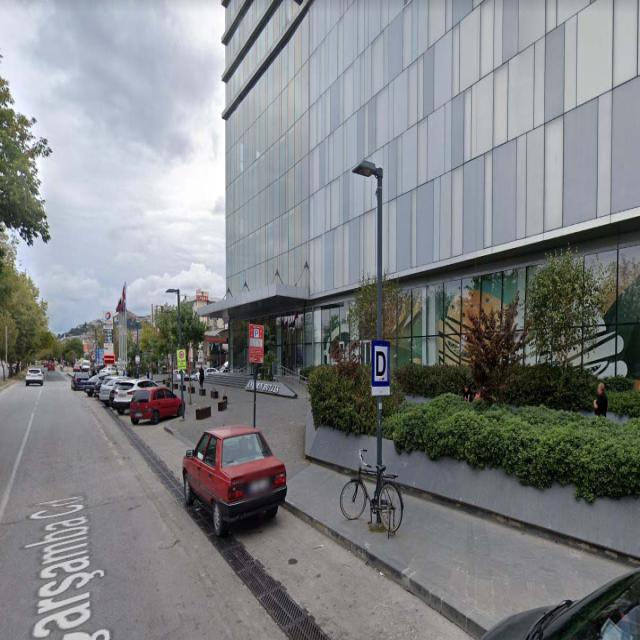durak: (372, 341, 391, 387)
